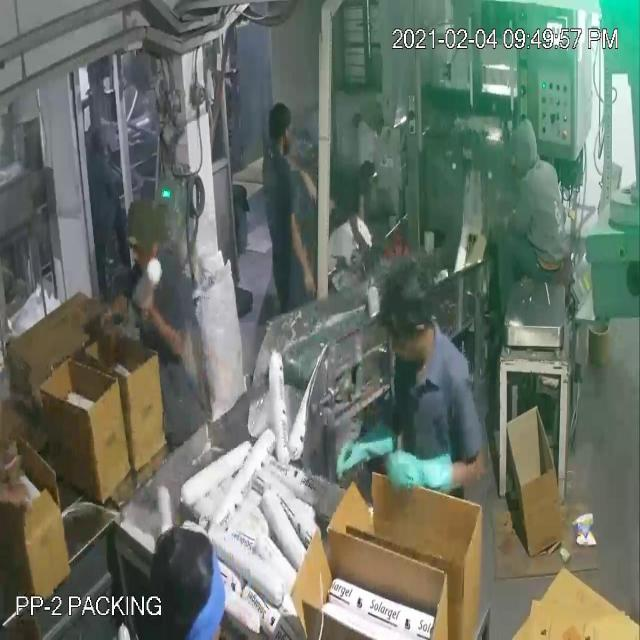No_Gloves: (22, 61, 424, 486)
